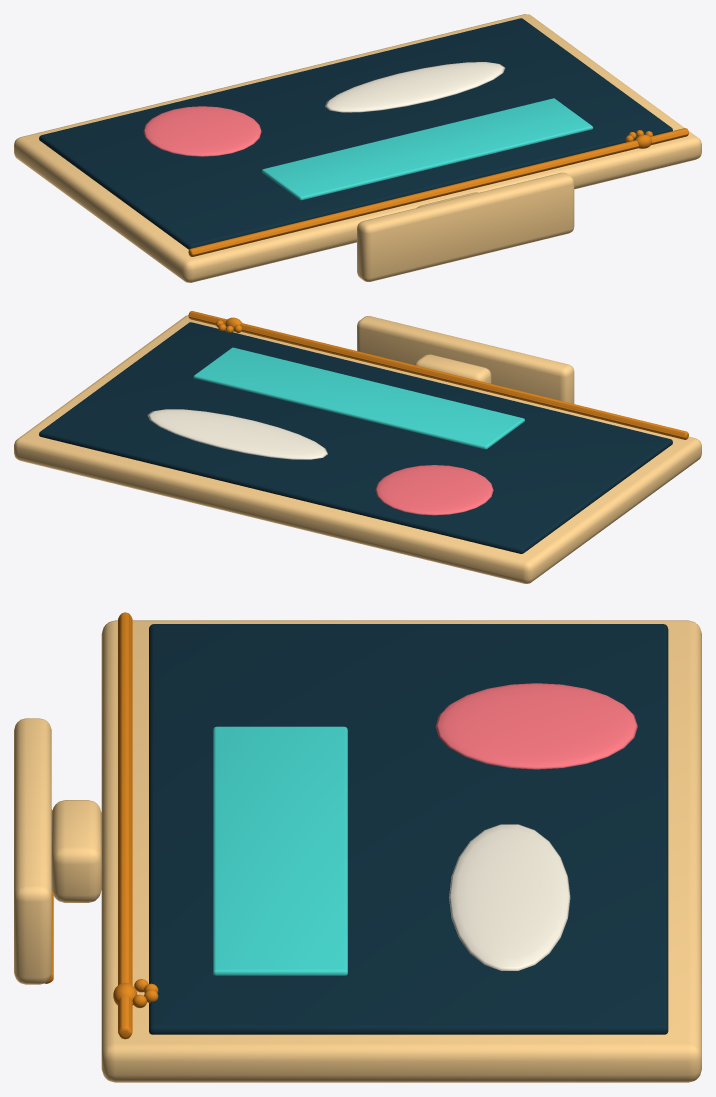
Rendered from ModernTelevision_Premium.fbx.
3 views of the same model, one above another, from view 1: azimuth 30°, elevation 25°; view 2: azimuth 150°, elevation 25°; view 3: azimuth 270°, elevation 25° (orthographic). The views are drawn at different scales.
Parts seen in each view (by area): view 1: ModernTelevision; view 2: ModernTelevision; view 3: ModernTelevision.
Part boxes in pixels (bbox=[...]): ModernTelevision: bbox=[14, 14, 701, 282]; ModernTelevision: bbox=[14, 311, 701, 583]; ModernTelevision: bbox=[14, 612, 701, 1082].
Bounding box in the file's own units: 1.52 × 0.164 × 1.02.
